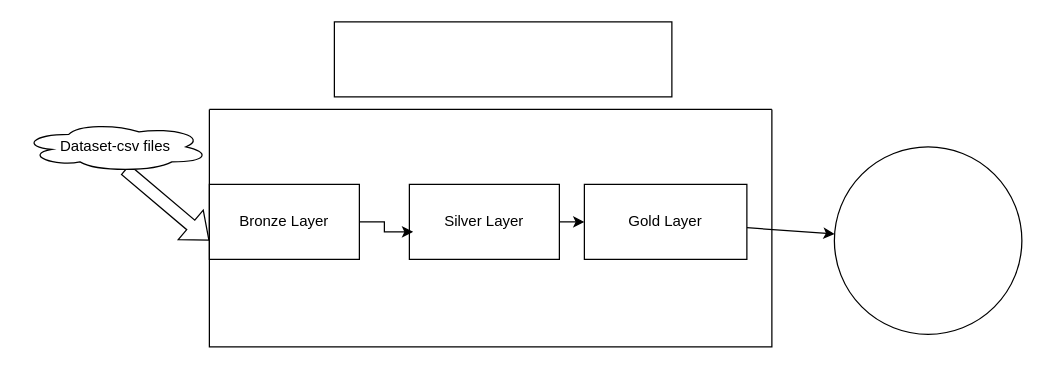
Image size: 1044x369. Some labels were removed from this diagram. Here are the shapes that lost their labels. From the top down, the centre of each, then its label:
At (x=502, y=59): "Medallion Structure".
At (x=927, y=240): "BI Team for analysis".
